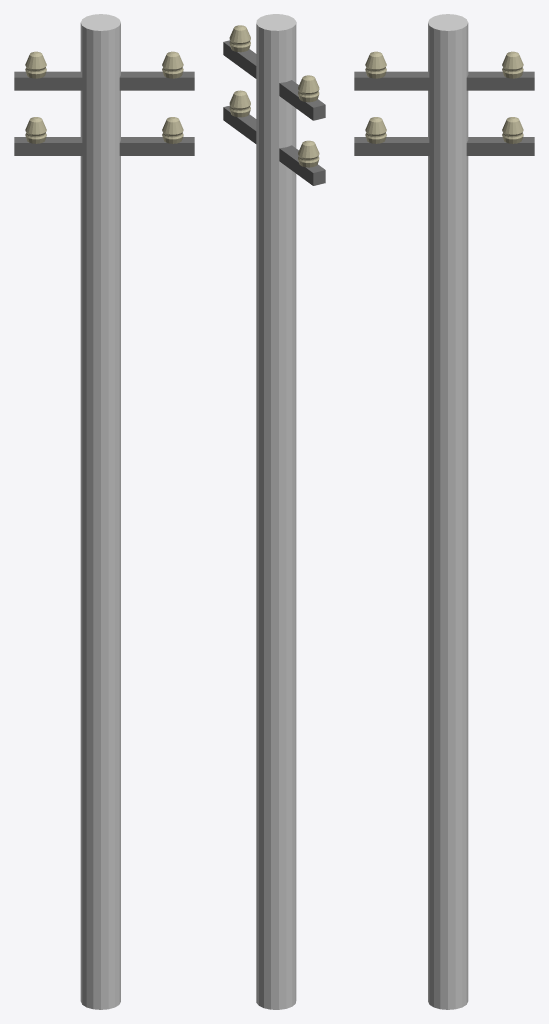
Rendered from Electricity_column.fbx.
The picture shows the model from 3 angles, left to right: view 1: azimuth 90°, elevation 25°; view 2: azimuth 210°, elevation 25°; view 3: azimuth 270°, elevation 25°; orthographic projection.
Visible parts, largest first — view 1: Cylinder, Cube, Cube.001, Cylinder.002, Cylinder.003, Cylinder.001, Cylinder.004; view 2: Cylinder, Cube.001, Cube, Cylinder.001, Cylinder.003, Cylinder.004, Cylinder.002; view 3: Cylinder, Cube, Cube.001, Cylinder.002, Cylinder.003, Cylinder.001, Cylinder.004.
Part boxes in pixels (x1,y1,x2,y2): Cylinder: (80, 14, 120, 1009); Cube: (14, 71, 194, 90); Cube.001: (14, 137, 194, 155); Cylinder.002: (162, 51, 183, 78); Cylinder.003: (25, 51, 46, 78); Cylinder.001: (162, 117, 183, 143); Cylinder.004: (25, 117, 46, 143); Cylinder: (256, 14, 296, 1009); Cube.001: (223, 105, 325, 185); Cube: (223, 40, 325, 120); Cylinder.001: (229, 90, 250, 117); Cylinder.003: (298, 75, 319, 102); Cylinder.004: (298, 140, 319, 167); Cylinder.002: (229, 25, 250, 52); Cylinder: (428, 14, 468, 1009); Cube: (354, 71, 534, 90); Cube.001: (354, 137, 534, 155); Cylinder.002: (365, 51, 386, 78); Cylinder.003: (502, 51, 523, 78); Cylinder.001: (365, 117, 386, 143); Cylinder.004: (502, 117, 523, 143).
Size of the model in its own units: 56 by 1500 by 250.
